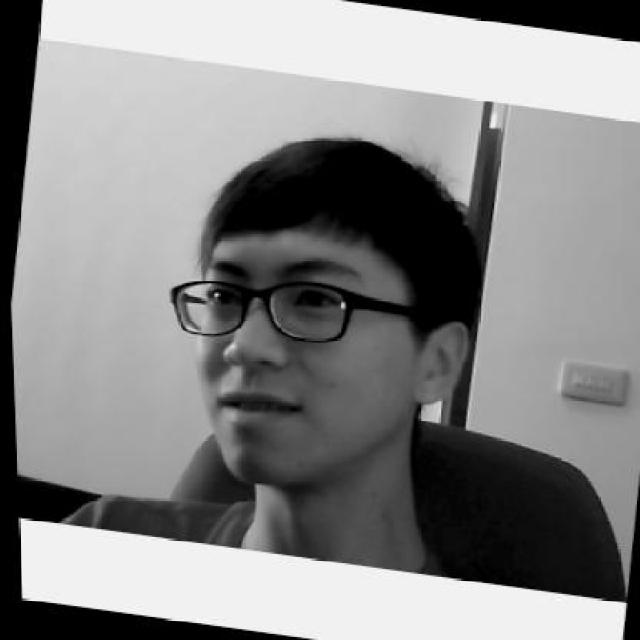attentif: (142, 113, 498, 509)
